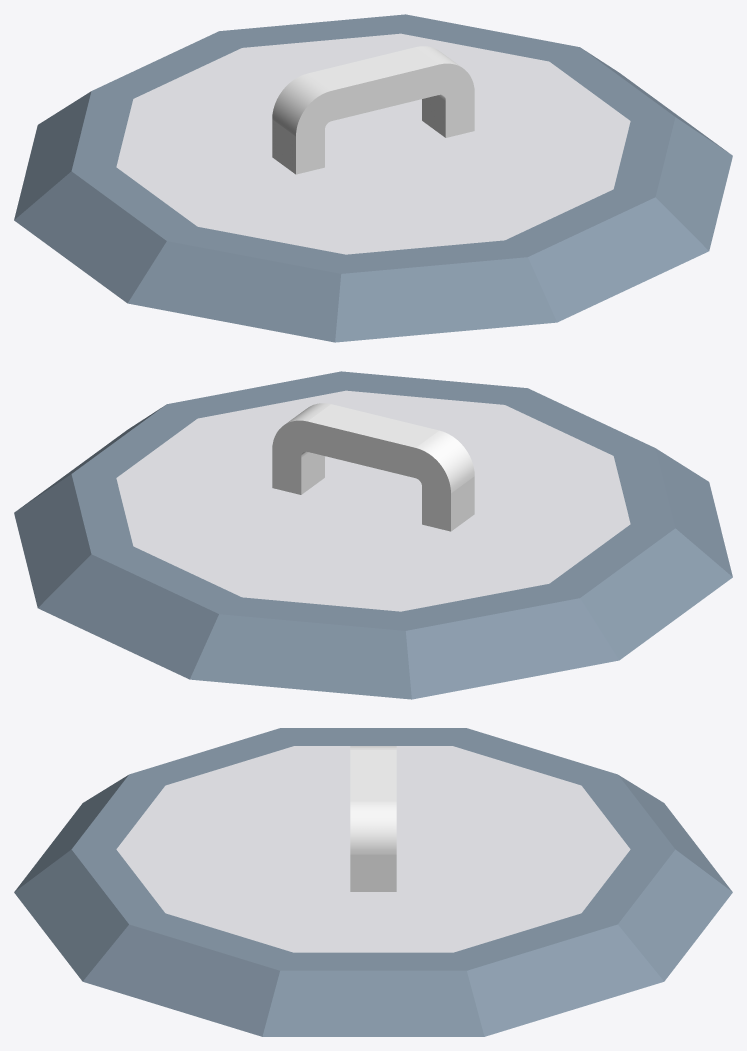
Rendered from fryingPanLid.dae.
The picture shows the model from 3 angles, top to bottom: view 1: azimuth 30°, elevation 25°; view 2: azimuth 150°, elevation 25°; view 3: azimuth 270°, elevation 25°; orthographic projection. The views are drawn at different scales.
Parts seen in each view (by area): view 1: fryingPanLid; view 2: fryingPanLid; view 3: fryingPanLid.
Boxes of the visible parts, x1,y1,x2,y2 form: fryingPanLid: [14, 14, 732, 342]; fryingPanLid: [14, 371, 732, 699]; fryingPanLid: [14, 728, 732, 1036].
Size of the model in its own units: 0.5767 by 0.1084 by 0.6064.
